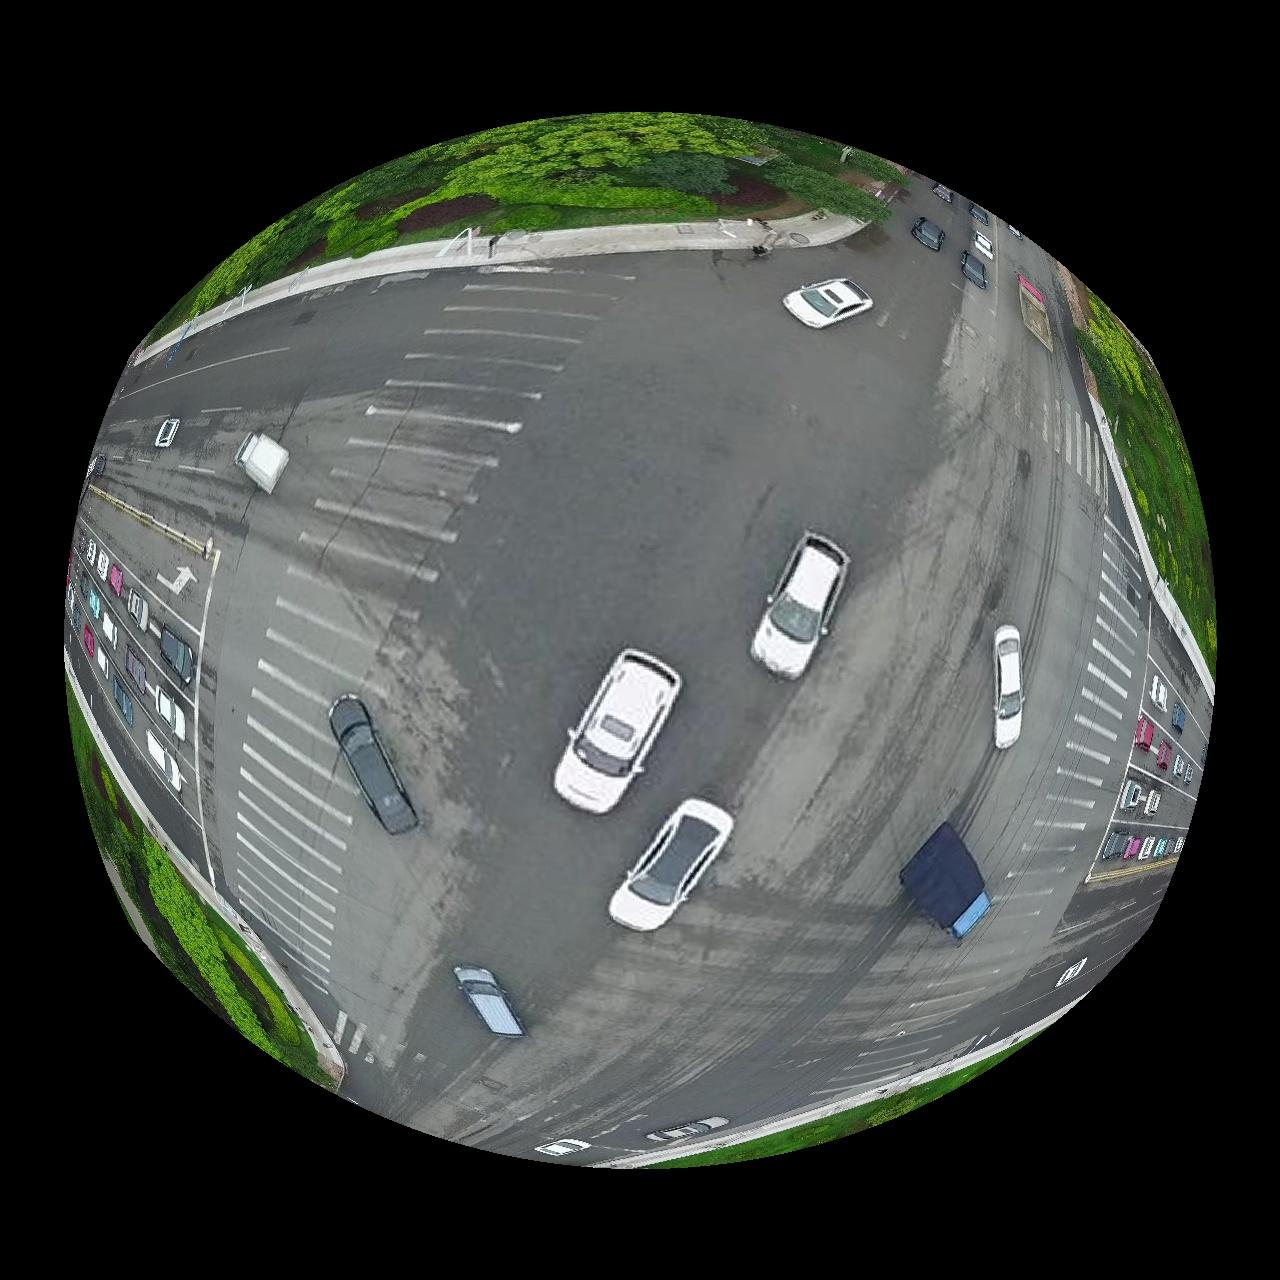cars: (554, 651, 683, 815), (610, 799, 734, 932), (753, 532, 851, 680), (329, 696, 418, 836), (901, 823, 992, 940), (454, 969, 524, 1037), (784, 278, 874, 327), (996, 625, 1026, 749), (234, 433, 288, 492), (647, 1118, 731, 1145), (147, 731, 182, 792), (159, 628, 192, 683), (156, 687, 185, 741), (913, 216, 947, 250), (962, 250, 990, 288), (124, 647, 145, 694), (111, 676, 131, 726), (125, 588, 147, 631), (1104, 832, 1131, 860), (1137, 715, 1157, 751), (1121, 781, 1145, 810), (154, 418, 177, 448), (1152, 675, 1171, 712), (100, 612, 116, 648), (1173, 701, 1189, 734), (1146, 790, 1164, 817), (1125, 836, 1144, 860), (94, 550, 109, 579), (1159, 741, 1175, 770), (107, 565, 121, 597), (95, 647, 107, 679), (87, 588, 98, 620), (84, 540, 95, 565)
trees: (150, 111, 908, 338), (70, 696, 331, 1088), (1076, 288, 1219, 672)
